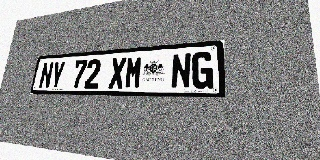2: (84, 59, 102, 89)
7: (71, 60, 88, 89)
G: (191, 51, 213, 89)
M: (124, 56, 143, 89)
N: (170, 53, 191, 89), (38, 62, 54, 89)
X: (108, 57, 127, 89)
Y: (49, 61, 66, 89)
